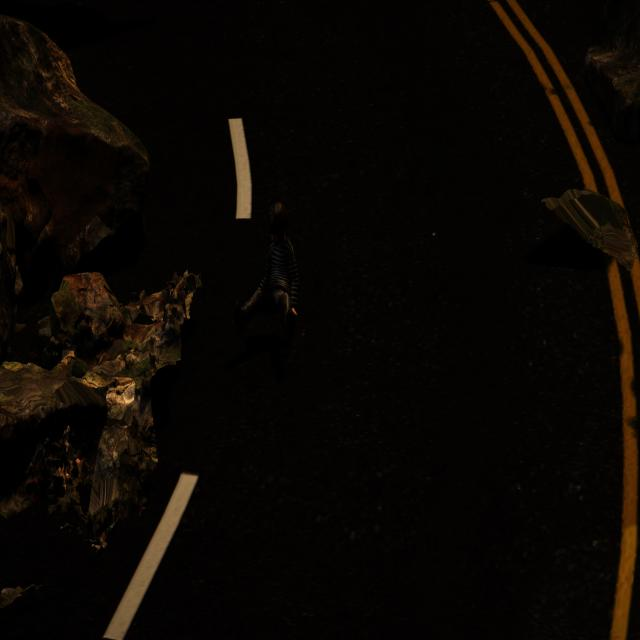Human: (228, 195, 307, 338)
